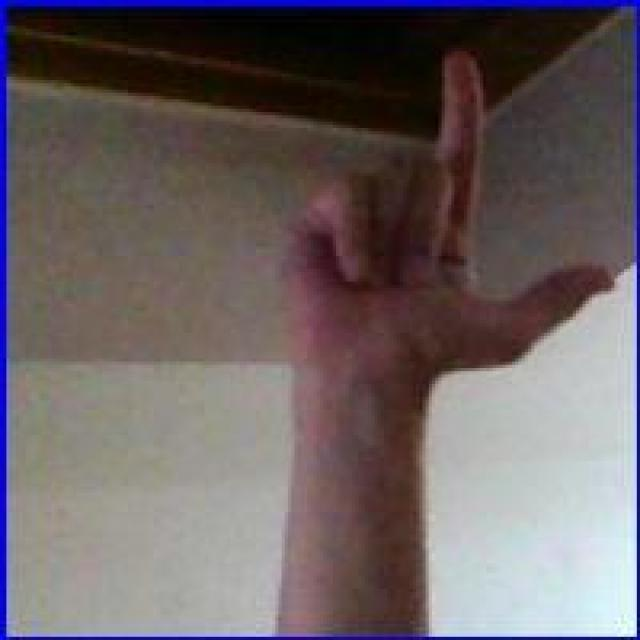L: (274, 42, 619, 384)
